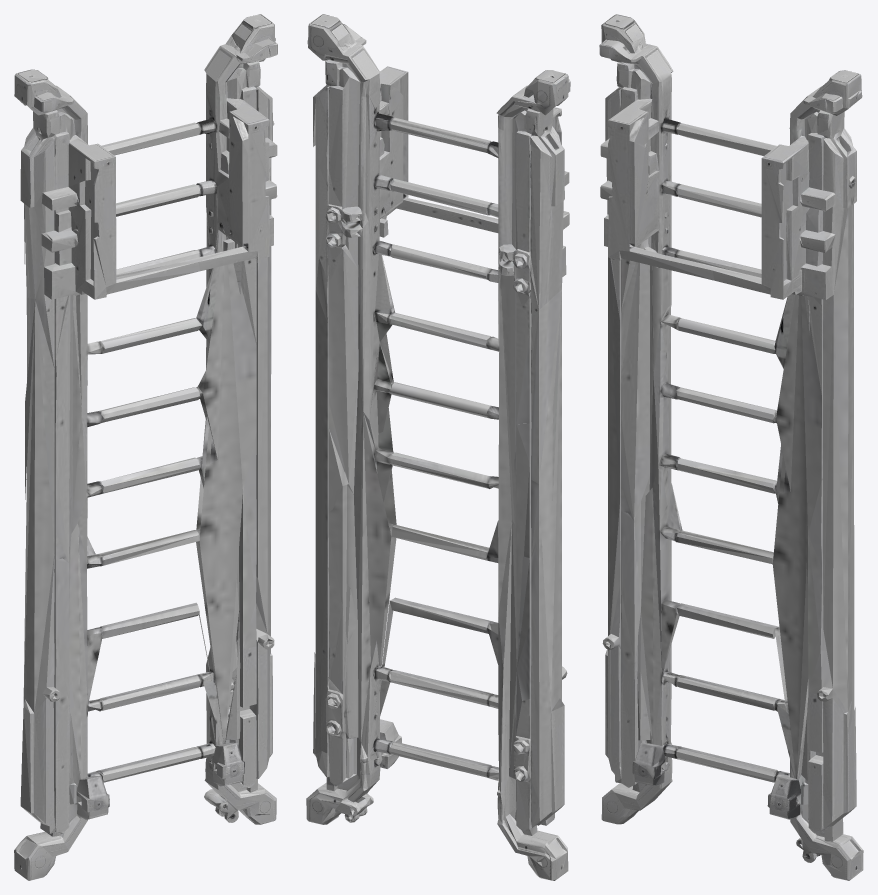
The model's file is access_ladder.glb.
The picture shows the model from 3 angles, left to right: view 1: azimuth 30°, elevation 25°; view 2: azimuth 150°, elevation 25°; view 3: azimuth 330°, elevation 25°; orthographic projection.
Visible parts, largest first — view 1: output_unwrapped; view 2: output_unwrapped; view 3: output_unwrapped.
Part boxes in pixels (x1,y1,x2,y2): output_unwrapped: (14, 14, 277, 880); output_unwrapped: (306, 14, 570, 880); output_unwrapped: (599, 14, 863, 880).
Bounding box in the file's own units: 0.6241 × 1.9 × 0.2132.
Materials: 1 (1 with a texture image).
